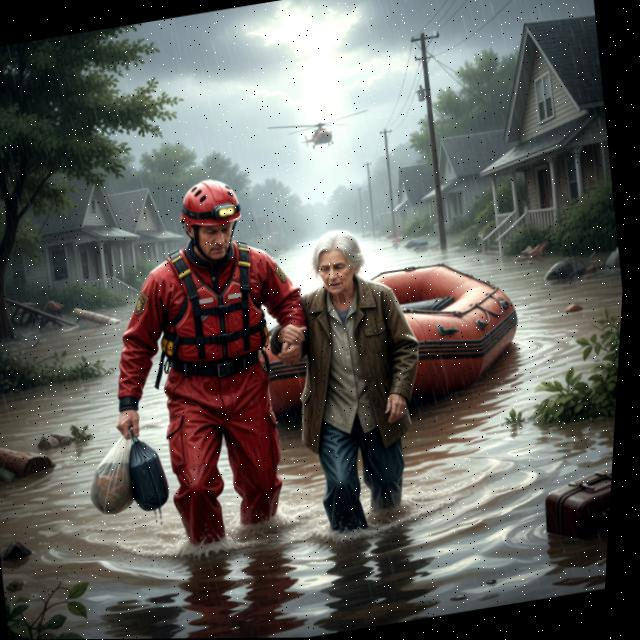civilian: (256, 211, 464, 556)
rescuer: (67, 152, 356, 573)
